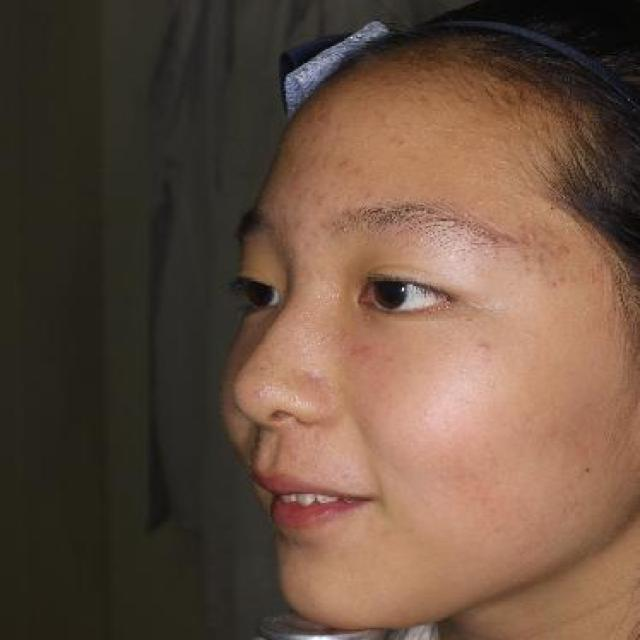Acne: (469, 336, 505, 358)
Blackheads: (577, 458, 599, 480)
Whiteheads: (520, 226, 542, 242)
